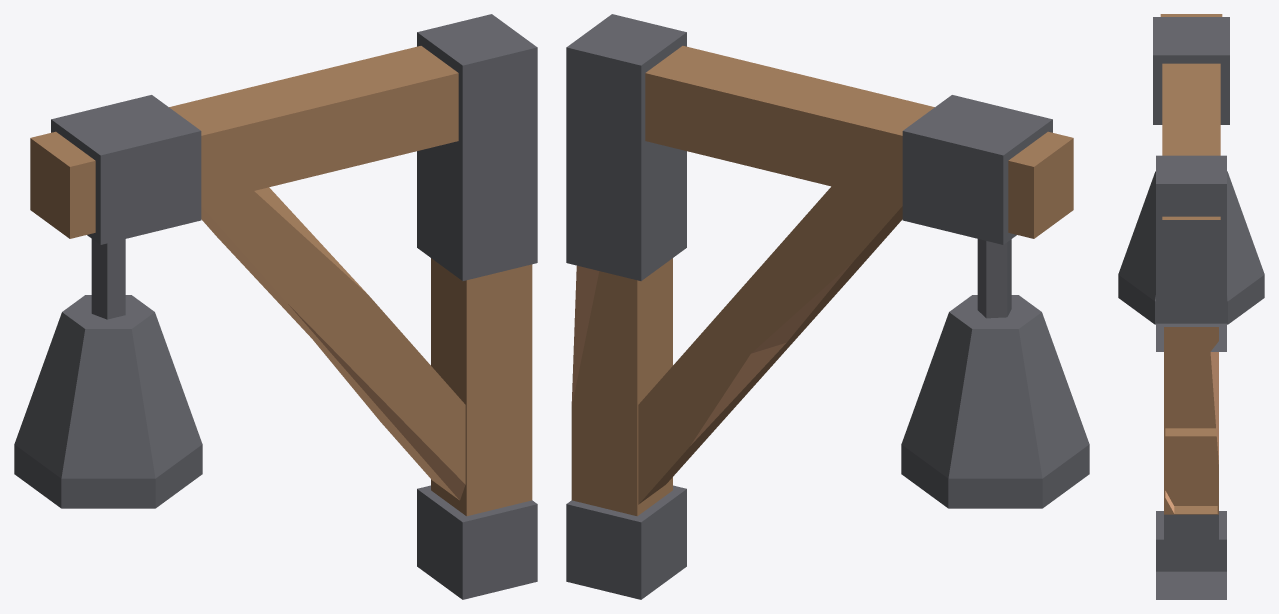
The model's file is Lamp_2.fbx.
3 views of the same model, side by side, from view 1: azimuth 30°, elevation 25°; view 2: azimuth 150°, elevation 25°; view 3: azimuth 270°, elevation 25° (orthographic). The views are drawn at different scales.
Parts seen in each view (by area): view 1: Lamp_2; view 2: Lamp_2; view 3: Lamp_2.
Part boxes in pixels (box(x1,y1,x2,y2)): Lamp_2: box(14, 14, 537, 599); Lamp_2: box(566, 14, 1089, 599); Lamp_2: box(1118, 14, 1264, 599).
Size of the model in its own units: 43.29 by 46.38 by 14.8.
